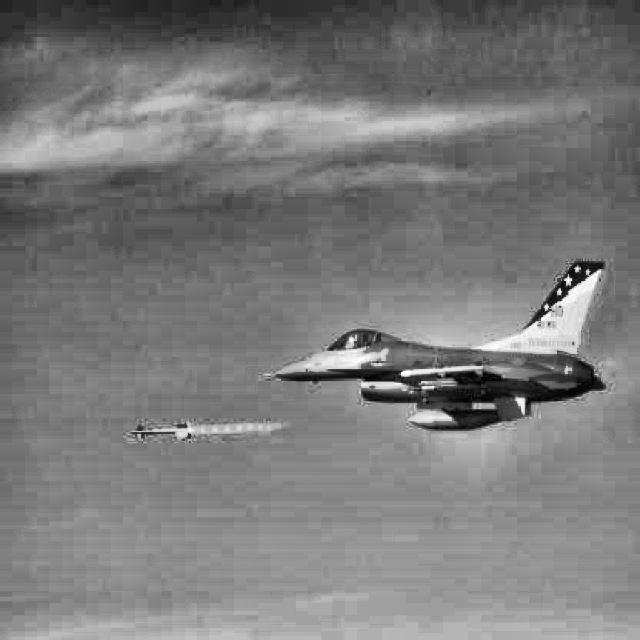F16: (263, 259, 609, 432)
